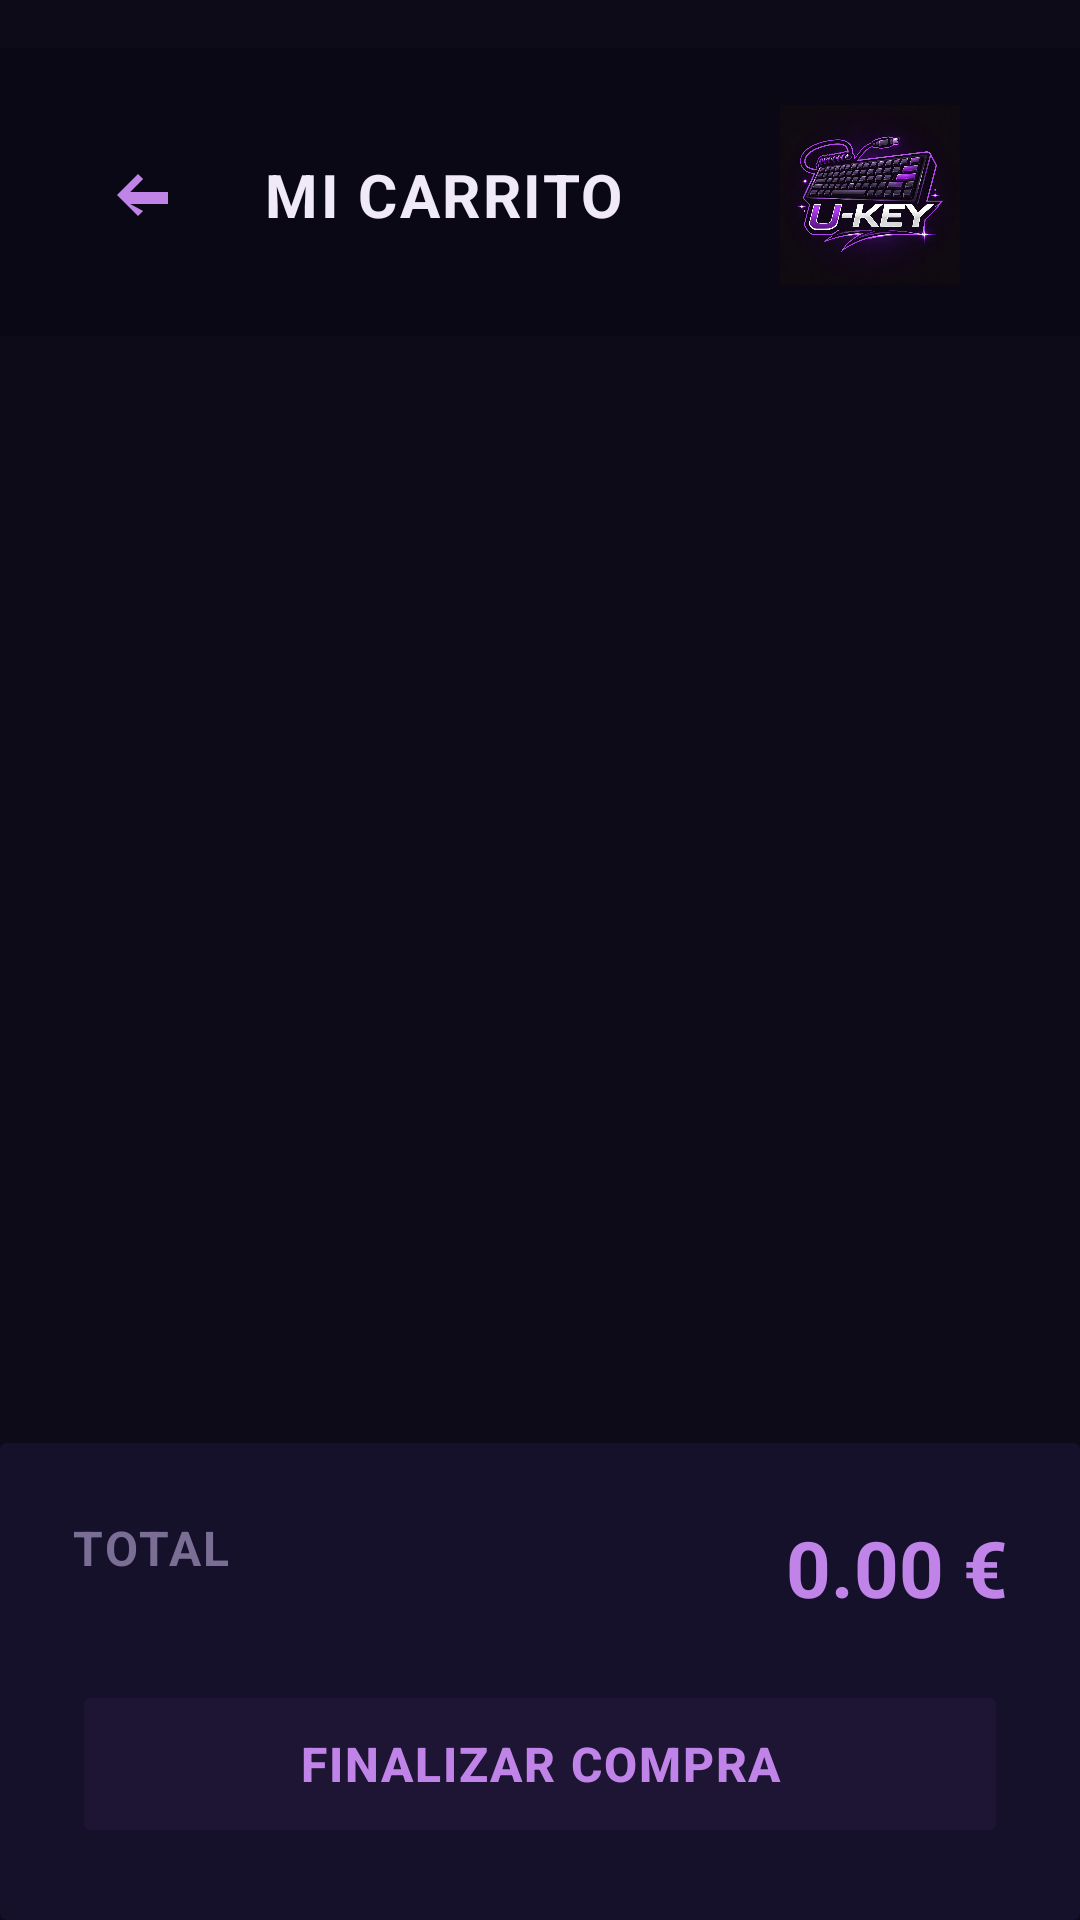

Icons on this 1080*1920 Android screen, each with the point to tap as (x=x, y=y):
back: (x=142, y=195)
